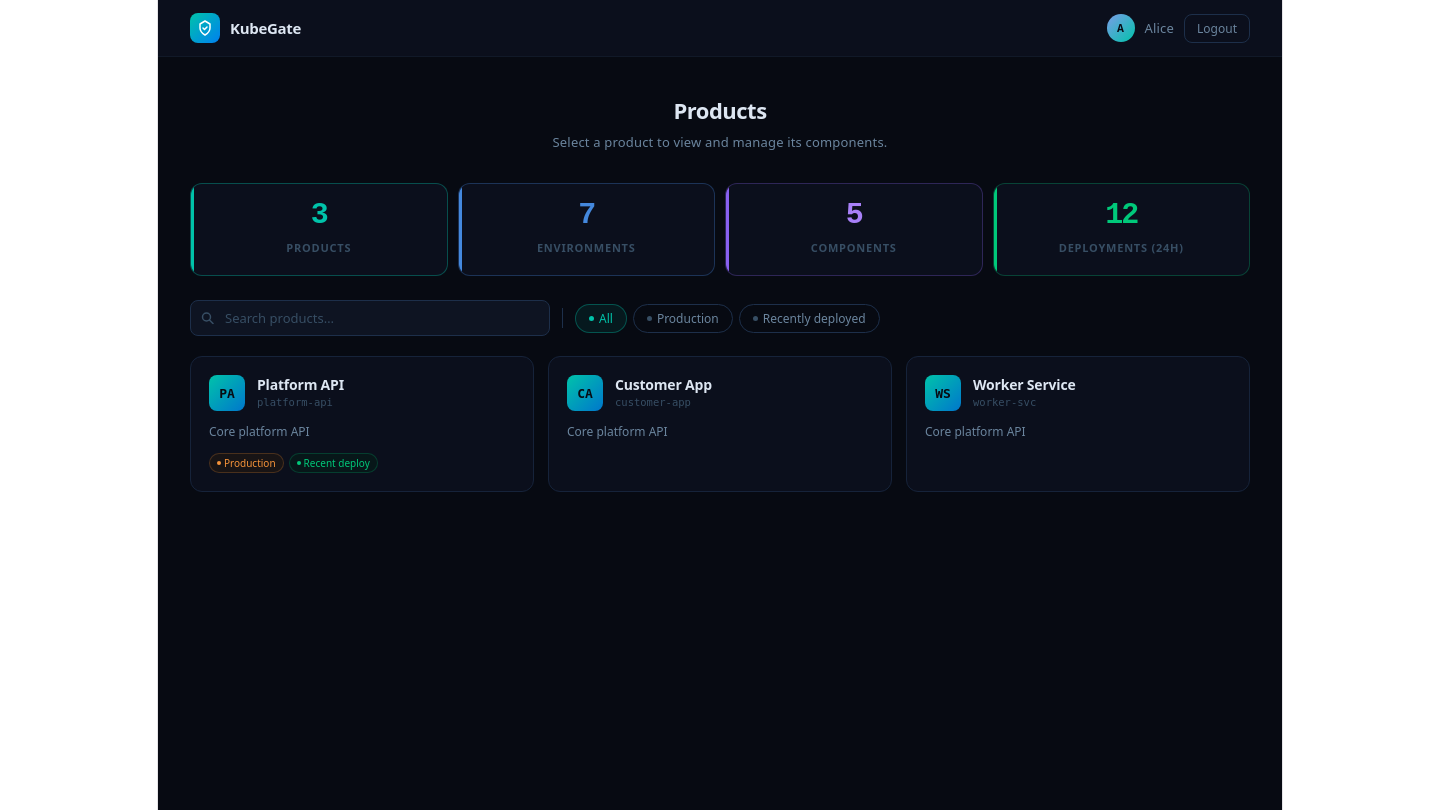
Search and filter › chip Recently deployed shows only products deployed in last 24h
Click the button with test id "chip-recently-deployed" at (809, 318), box [739,304,880,333]
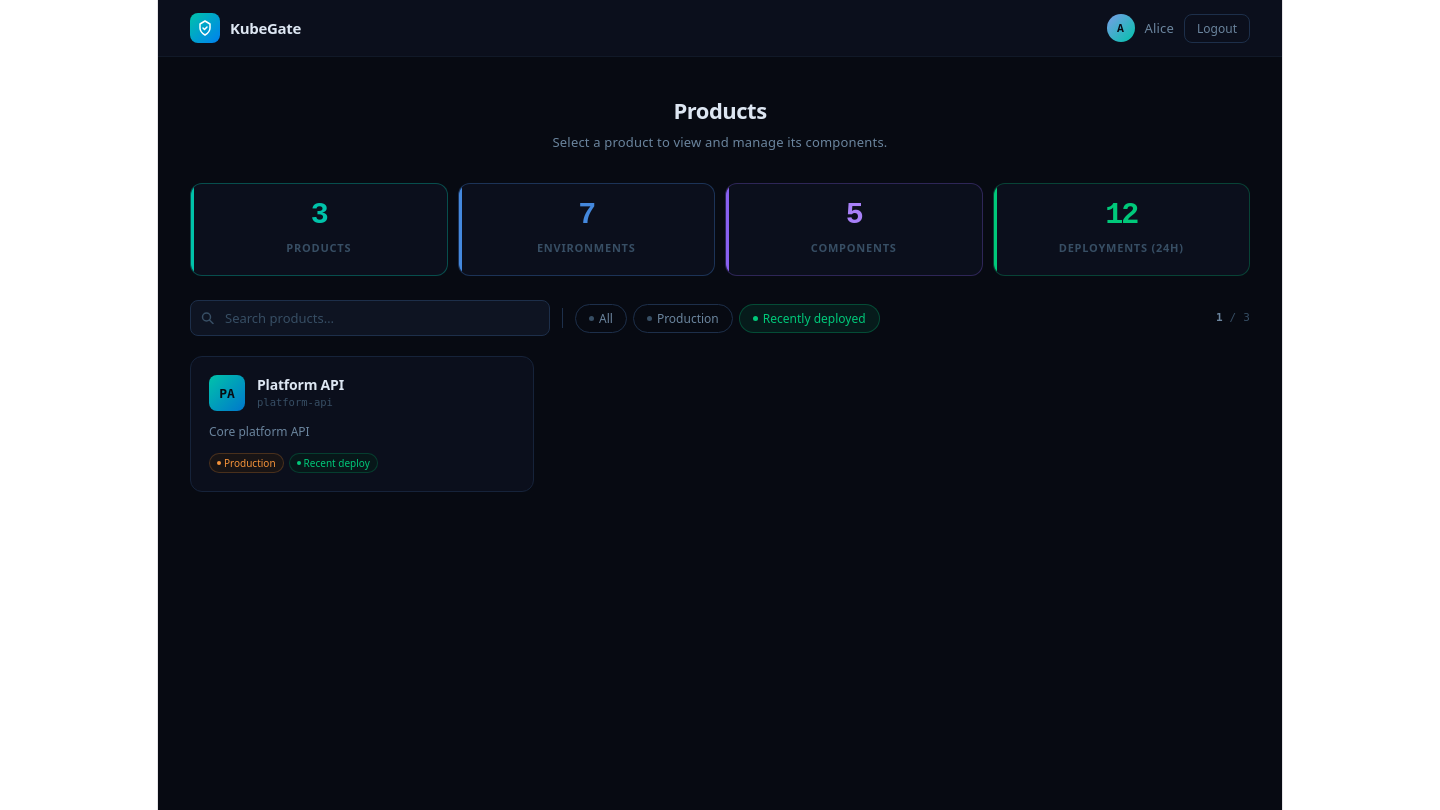
Check: the text "Platform API" is shown, box [257,375,344,394]
Check: the button "Customer App" is gone
Check: the button "Worker Service" is gone
